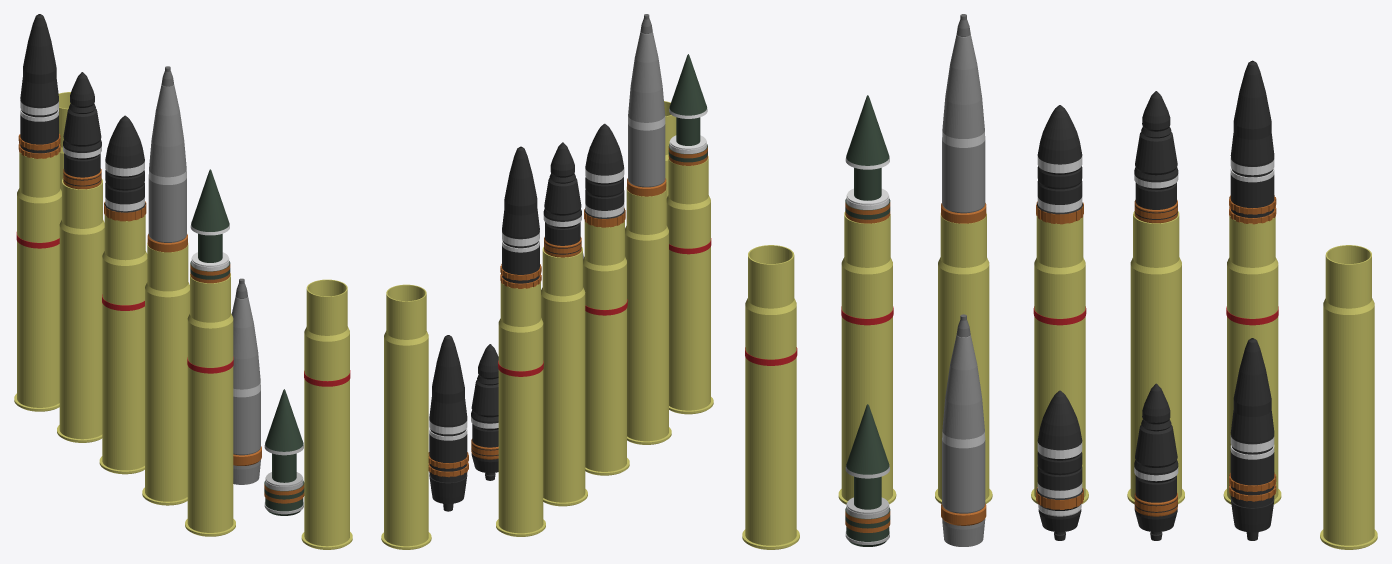
The model's file is TankShells.fbx.
The picture shows the model from 3 angles, left to right: view 1: azimuth 30°, elevation 25°; view 2: azimuth 150°, elevation 25°; view 3: azimuth 270°, elevation 25°; orthographic projection. The views are drawn at different scales.
Visible parts, largest first — view 1: Circle.003, Circle.015, Circle.007, Circle.011, Circle.013, Circle.009, Circle.014, Circle.004, Circle.010, Circle.012, Circle.008, Circle.005 (+2 smaller); view 2: Circle.002, Circle.009, Circle.007, Circle.015, Circle.013, Circle.011, Circle.014, Circle.006, Circle.010, Circle.012, Circle.008, Circle (+2 smaller); view 3: Circle.003, Circle.002, Circle.015, Circle.007, Circle.011, Circle.009, Circle.013, Circle.004, Circle.014, Circle.006, Circle.010, Circle.001 (+5 smaller).
Boxes of the visible parts, box(x1,y1,x2,y2) form: Circle.003: box(301, 279, 352, 549); Circle.015: box(185, 273, 235, 536); Circle.007: box(57, 178, 104, 442); Circle.011: box(99, 215, 147, 474); Circle.013: box(142, 243, 189, 505); Circle.009: box(14, 152, 61, 411); Circle.014: box(147, 66, 187, 252); Circle.004: box(231, 278, 261, 484); Circle.010: box(18, 14, 60, 158); Circle.012: box(104, 115, 146, 221); Circle.008: box(63, 72, 101, 189); Circle.005: box(264, 389, 304, 515); Circle.002: box(381, 284, 431, 549); Circle.009: box(496, 281, 545, 536); Circle.007: box(541, 247, 587, 506); Circle.015: box(666, 156, 713, 414); Circle.013: box(625, 187, 671, 444); Circle.011: box(583, 220, 629, 475); Circle.014: box(627, 14, 666, 196); Circle.006: box(428, 335, 468, 511); Circle.010: box(500, 146, 541, 288); Circle.012: box(584, 123, 625, 227); Circle.008: box(543, 142, 581, 257); Circle: box(471, 344, 498, 480); Circle.003: box(742, 245, 799, 549); Circle.002: box(1320, 245, 1377, 549); Circle.015: box(838, 211, 896, 504); Circle.007: box(1127, 211, 1184, 504); Circle.011: box(1031, 216, 1088, 503); Circle.009: box(1223, 216, 1281, 504); Circle.013: box(935, 213, 992, 503); Circle.004: box(941, 314, 986, 546); Circle.014: box(941, 14, 986, 223); Circle.006: box(1229, 338, 1276, 540); Circle.010: box(1229, 60, 1276, 224); Circle.001: box(1036, 390, 1083, 540).
Size of the model in its own units: 160 by 553 by 660.
